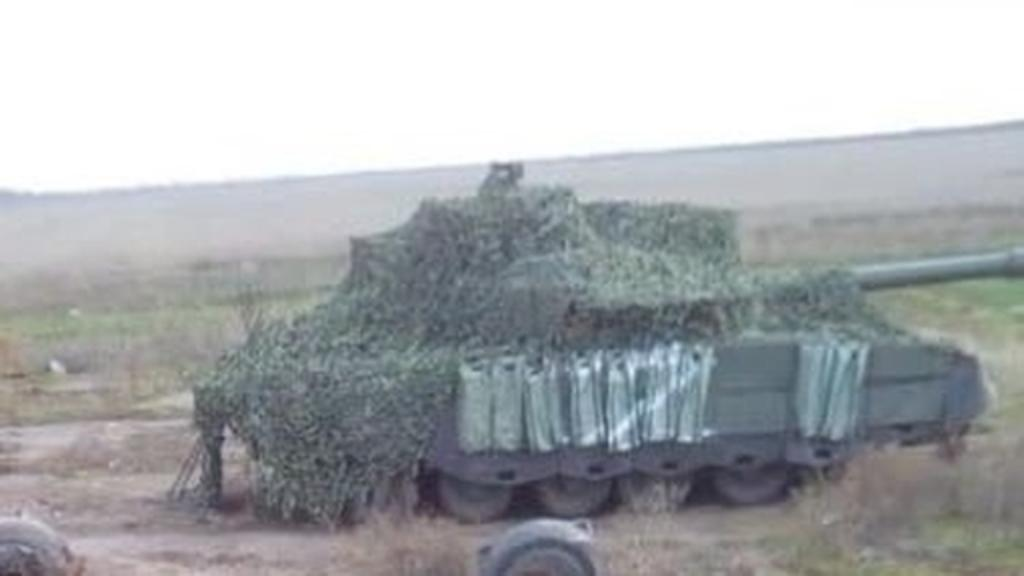TANK: (180, 156, 1020, 516)
